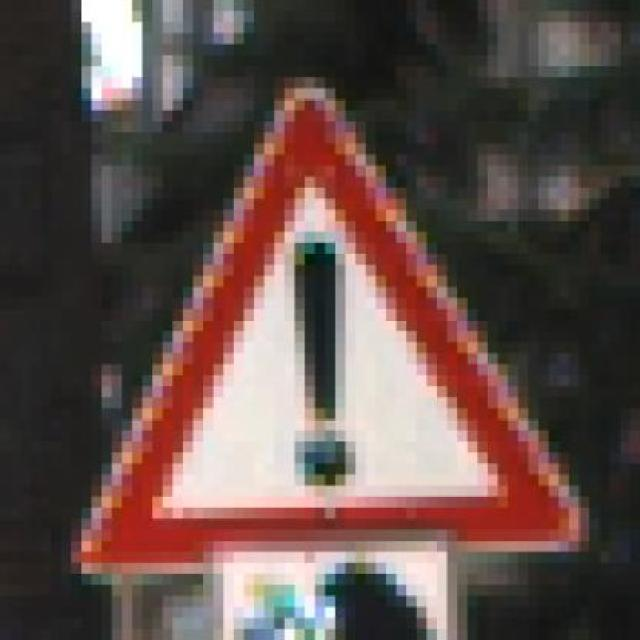Attention Please-: (51, 69, 600, 588)
